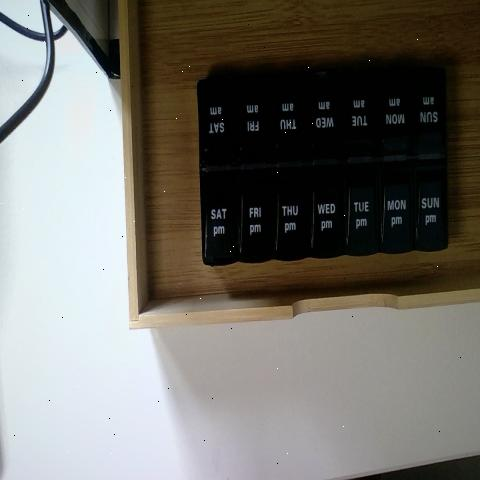FRI-am: (234, 66, 269, 154)
FRI-pm: (238, 177, 273, 262)
MON-am: (373, 60, 407, 152)
MON-pm: (373, 173, 410, 256)
SAT-am: (198, 75, 239, 163)
SAT-pm: (203, 170, 239, 261)
SUN-am: (410, 59, 444, 157)
SUN-pm: (409, 167, 444, 251)
THU-am: (269, 61, 302, 154), (340, 63, 371, 152)
THU-pm: (272, 164, 308, 260)
TUE-pm: (342, 166, 377, 249)
WED-am: (304, 67, 341, 154)
WED-pm: (308, 169, 344, 260)
